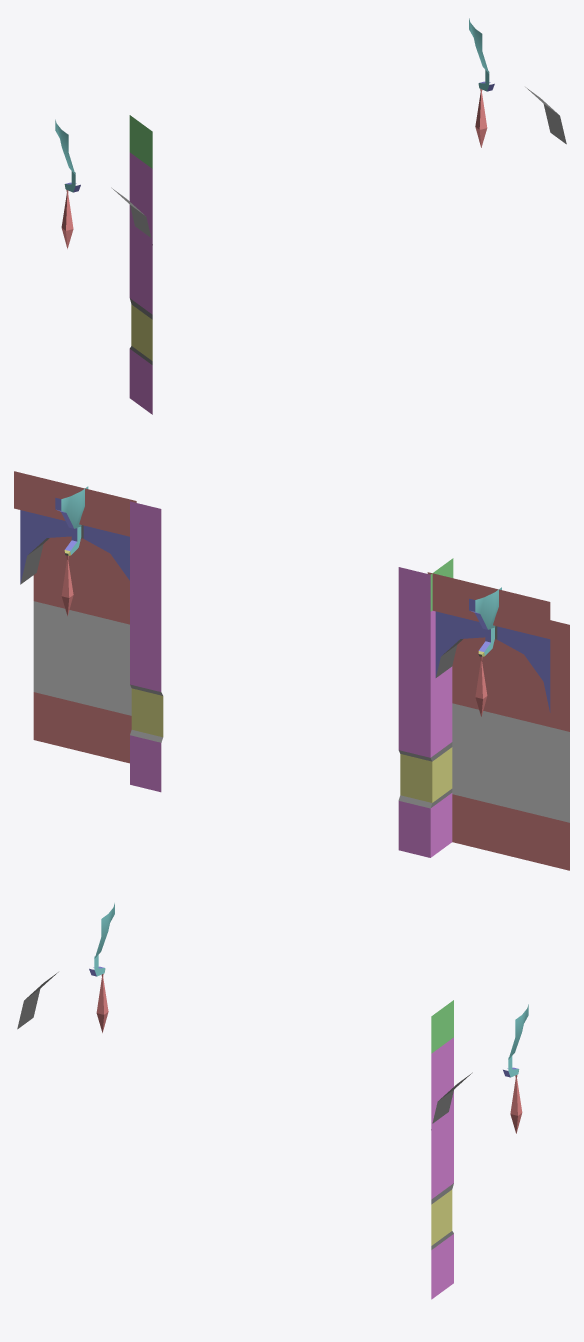
Rendered from SSQ_dungeon_S__SSQ_Room02_wall03.gltf.
3 renders of one model, top to bottom at view 1: azimuth 30°, elevation 25°; view 2: azimuth 150°, elevation 25°; view 3: azimuth 330°, elevation 25°, orthographic.
Parts seen in each view (by area): view 1: SSQ_Room02_wall03; view 2: SSQ_Room02_wall03; view 3: SSQ_Room02_wall03.
Part boxes in pixels (x1,y1,x2,y2): SSQ_Room02_wall03: (55, 18, 566, 414); SSQ_Room02_wall03: (14, 471, 569, 870); SSQ_Room02_wall03: (17, 903, 528, 1299).
Size of the model in its own units: 7.7 by 3.89 by 0.9367.
